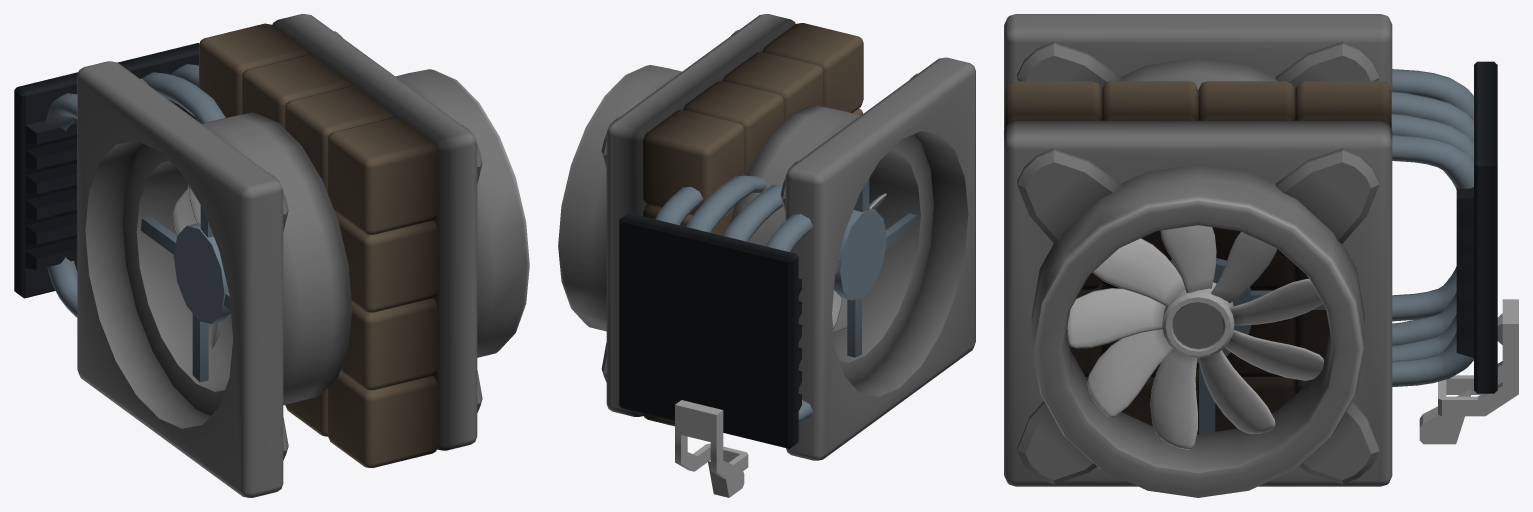
Rendered from Cooling_systems_lvl_06_V06.fbx.
3 renders of one model, left to right at view 1: azimuth 30°, elevation 25°; view 2: azimuth 150°, elevation 25°; view 3: azimuth 270°, elevation 25°, orthographic. The views are drawn at different scales.
Parts seen in each view (by area): view 1: Body_Cooling, Fan_Cooling_01; view 2: Body_Cooling, Fan_Cooling_01; view 3: Body_Cooling, Fan_Cooling_01.
Part boxes in pixels (<box>): Body_Cooling: <box>14,14,529,497</box>; Fan_Cooling_01: <box>173,185,222,349</box>; Body_Cooling: <box>558,14,975,497</box>; Fan_Cooling_01: <box>832,193,886,333</box>; Body_Cooling: <box>1004,14,1518,497</box>; Fan_Cooling_01: <box>1067,225,1324,449</box>.
Size of the model in its own units: 41.69 by 43.61 by 52.6.
